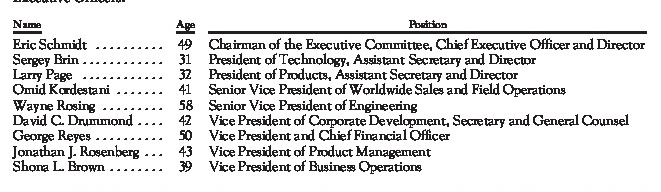table: (0, 0, 661, 192)
